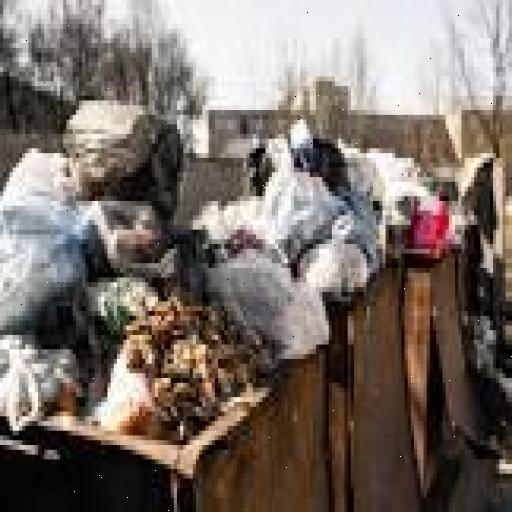poubelle_pleine: (1, 81, 466, 512)
